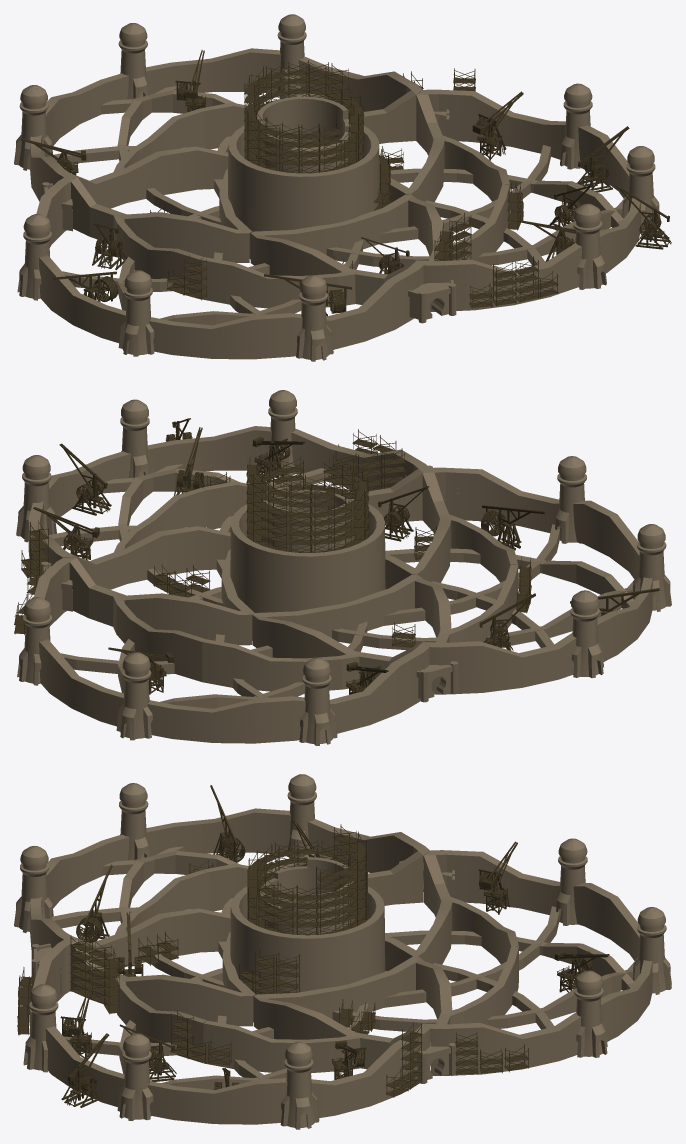
Rendered from hyperstructure-started-transformed.glb.
The picture shows the model from 3 angles, top to bottom: view 1: azimuth 30°, elevation 25°; view 2: azimuth 150°, elevation 25°; view 3: azimuth 270°, elevation 25°; orthographic projection. The views are drawn at different scales.
Visible parts, largest first — view 1: tower_initialized, tower_initialized_scaffolds; view 2: tower_initialized, tower_initialized_scaffolds; view 3: tower_initialized, tower_initialized_scaffolds.
Part boxes in pixels (left/top/right/bottom): tower_initialized: left=14, top=14, right=660, bottom=361; tower_initialized_scaffolds: left=20, top=50, right=671, bottom=316; tower_initialized: left=16, top=390, right=671, bottom=745; tower_initialized_scaffolds: left=14, top=418, right=659, bottom=694; tower_initialized: left=14, top=774, right=671, bottom=1129; tower_initialized_scaffolds: left=17, top=785, right=609, bottom=1107.
Size of the model in its own units: 3.24 by 0.7406 by 3.11.
